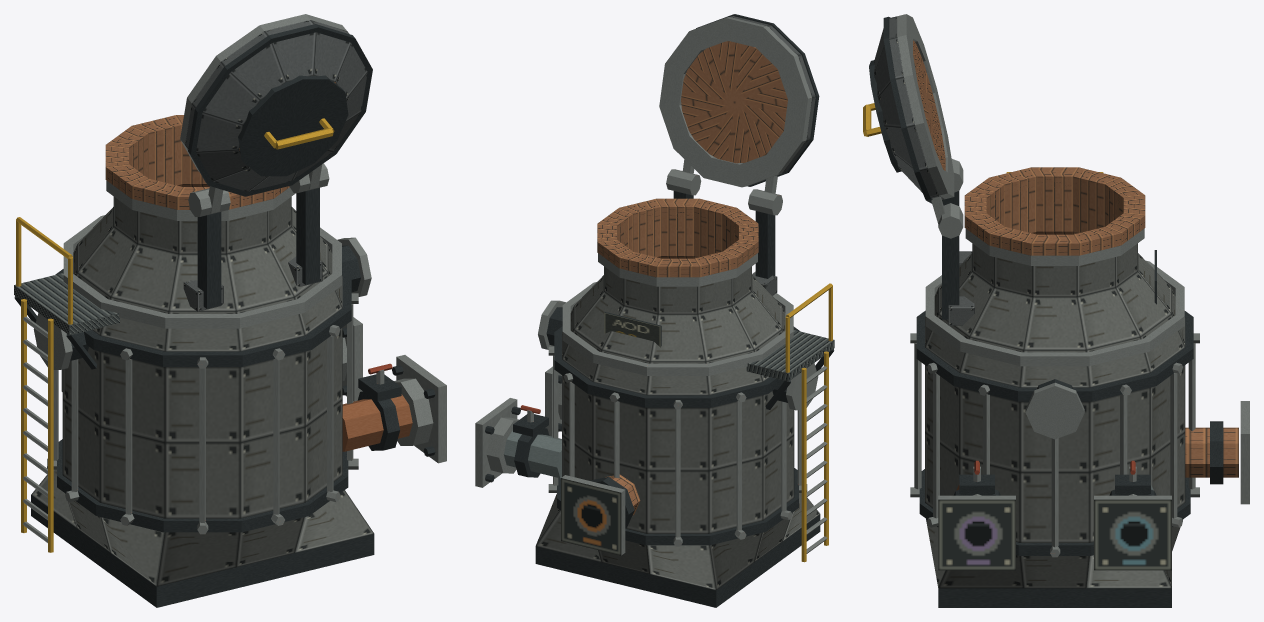
The model's file is large_aod_open.obj.
The picture shows the model from 3 angles, left to right: view 1: azimuth 30°, elevation 25°; view 2: azimuth 150°, elevation 25°; view 3: azimuth 270°, elevation 25°; orthographic projection. The views are drawn at different scales.
Visible parts, largest first — view 1: vessel, lid, bands, lower_shell, port_argon, hinge_mount, neck, service_step, ladder, lining, lifting_lugs, port_oxygen; view 2: vessel, lid, bands, lower_shell, neck, port_oxygen, port_casting, lining, service_step, ladder, hinge_mount, lifting_lugs (+2 smaller); view 3: vessel, bands, lid, lower_shell, neck, port_oxygen, port_argon, lining, port_casting, hinge_mount, lifting_lugs.
Part boxes in pixels (<box>): vessel: <box>62,196,342,518</box>; lid: <box>180,14,372,213</box>; bands: <box>47,215,358,534</box>; lower_shell: <box>31,469,374,607</box>; port_argon: <box>342,355,446,463</box>; hinge_mount: <box>183,163,329,311</box>; neck: <box>105,115,295,220</box>; service_step: <box>14,217,119,369</box>; ladder: <box>21,299,53,552</box>; lining: <box>129,125,209,186</box>; lifting_lugs: <box>33,237,371,369</box>; port_oxygen: <box>342,317,362,401</box>; vessel: <box>562,266,794,533</box>; lid: <box>659,14,819,193</box>; bands: <box>548,282,807,546</box>; lower_shell: <box>535,493,820,607</box>; neck: <box>597,198,758,286</box>; port_oxygen: <box>475,398,561,487</box>; port_casting: <box>561,474,640,555</box>; lining: <box>617,207,738,258</box>; service_step: <box>746,283,834,409</box>; ladder: <box>801,351,828,562</box>; hinge_mount: <box>666,169,782,295</box>; lifting_lugs: <box>538,300,818,410</box>; vessel: <box>925,243,1185,542</box>; bands: <box>910,260,1199,557</box>; lid: <box>863,14,954,223</box>; lower_shell: <box>926,519,1180,607</box>; neck: <box>964,167,1145,265</box>; port_oxygen: <box>1094,460,1171,570</box>; port_argon: <box>938,460,1015,570</box>; lining: <box>986,176,1123,234</box>; port_casting: <box>1185,401,1249,504</box>; hinge_mount: <box>938,159,974,325</box>; lifting_lugs: <box>1025,379,1084,439</box>.
Size of the model in its own units: 4.82 by 7.57 by 4.96.
Materials: 1 (1 with a texture image).
